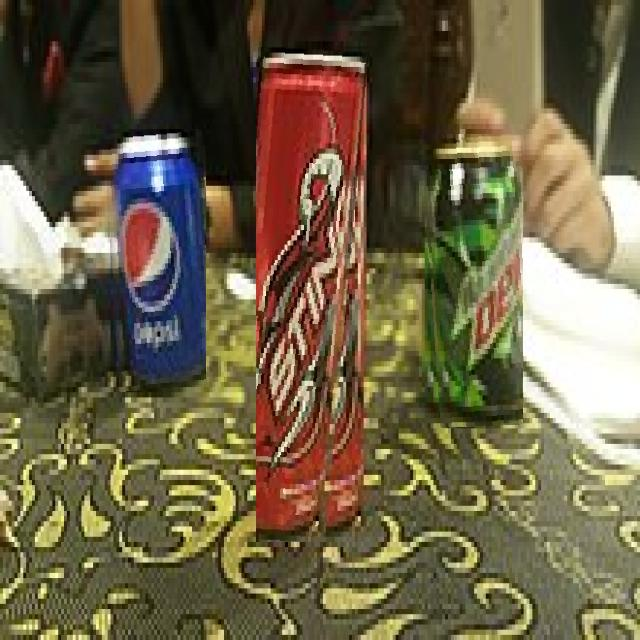Cans: (256, 41, 369, 542), (422, 134, 524, 428), (105, 129, 206, 392)
